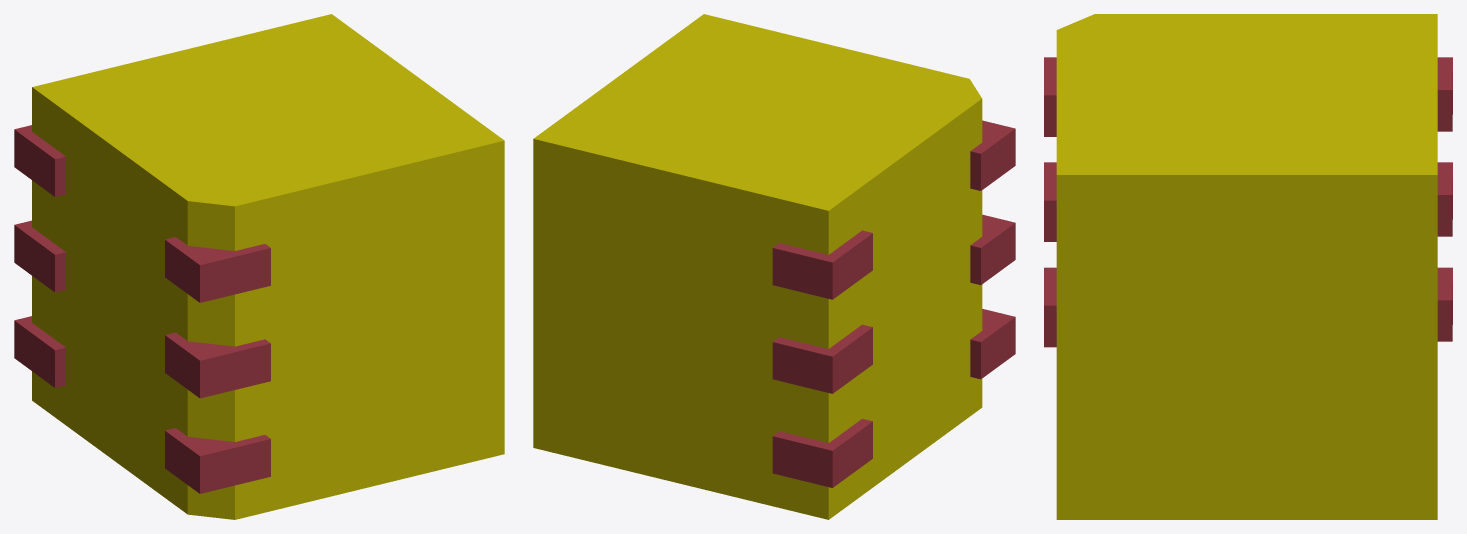
File: Right Connect Yellow Red.fbx
3 views of the same model, side by side, from view 1: azimuth 30°, elevation 25°; view 2: azimuth 150°, elevation 25°; view 3: azimuth 270°, elevation 25° (orthographic). The views are drawn at different scales.
Visible parts, largest first — view 1: pCube9; view 2: pCube9; view 3: pCube9.
Boxes of the visible parts, x1,y1,x2,y2 form: pCube9: (14, 14, 504, 519); pCube9: (533, 14, 1015, 519); pCube9: (1044, 14, 1452, 519).
Bounding box in the file's own units: 2.07 × 2 × 2.15.
